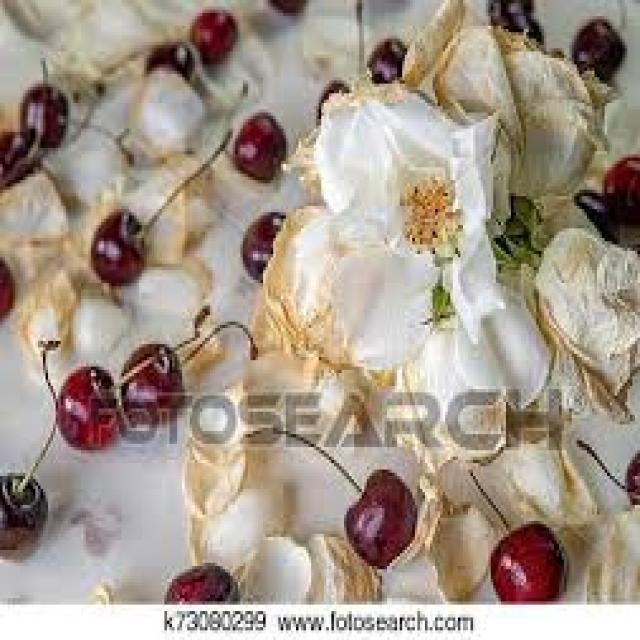organic waste: (246, 74, 552, 373), (433, 19, 612, 190), (532, 219, 638, 418), (278, 424, 415, 560), (172, 373, 256, 553), (117, 315, 256, 418), (0, 338, 61, 560), (132, 151, 228, 283), (407, 460, 488, 601), (496, 425, 599, 524), (15, 248, 81, 364), (124, 68, 202, 154), (488, 518, 567, 601), (50, 360, 119, 447), (0, 160, 68, 247), (397, 0, 463, 80), (238, 527, 308, 595), (483, 183, 544, 260), (584, 512, 638, 598), (306, 527, 374, 595), (574, 434, 638, 502), (88, 206, 142, 283), (230, 103, 284, 177), (569, 16, 625, 84), (18, 77, 68, 151), (602, 151, 638, 238), (160, 556, 240, 595), (238, 209, 283, 277), (187, 6, 235, 64), (486, 0, 539, 39), (0, 122, 35, 180), (574, 190, 610, 235), (147, 39, 192, 74), (314, 77, 346, 119), (0, 254, 15, 322), (266, 0, 308, 16), (546, 42, 559, 58)
